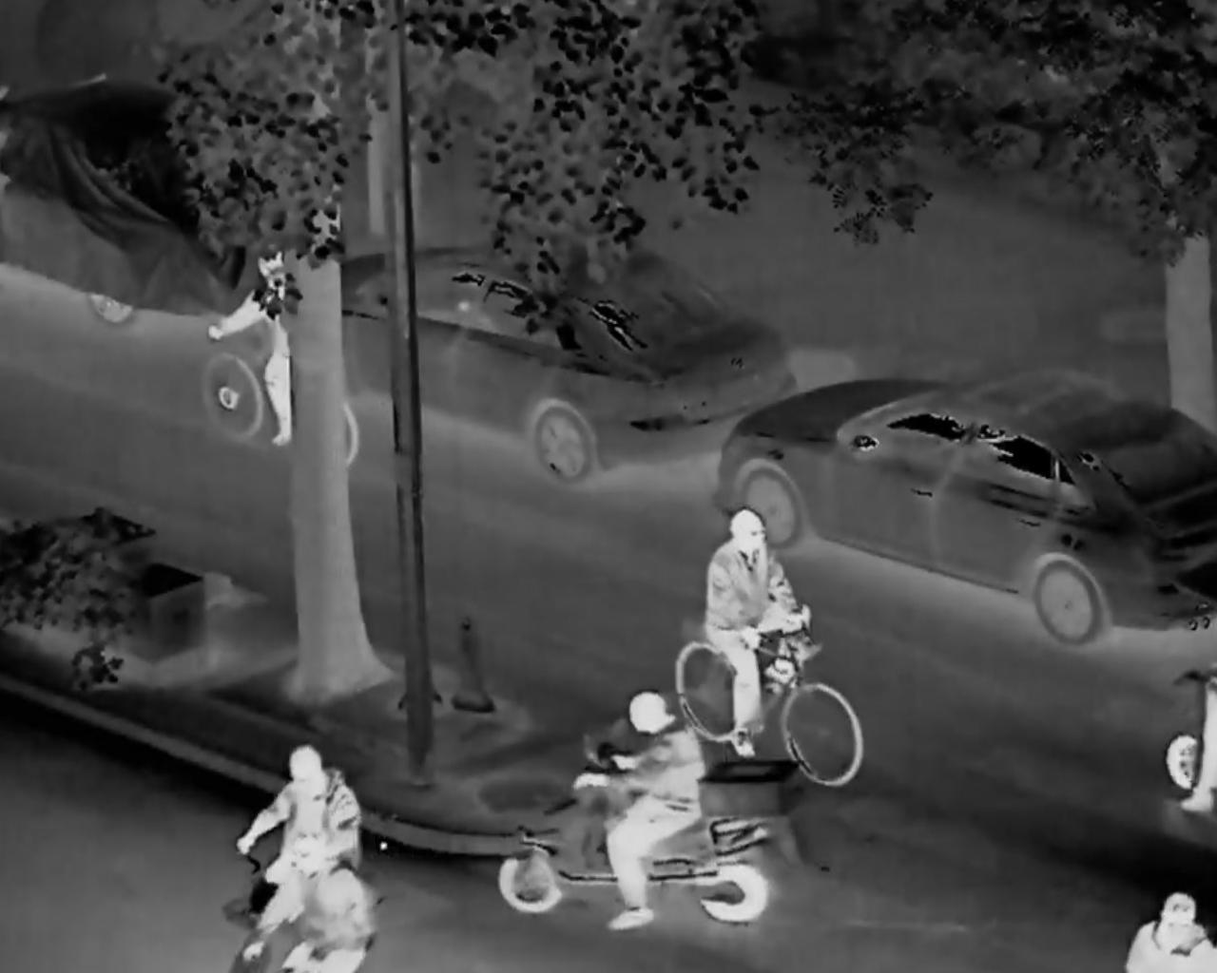person: (596, 681, 722, 967), (201, 233, 345, 481), (705, 503, 822, 754), (235, 736, 362, 883), (244, 833, 377, 973), (1129, 887, 1214, 973)
